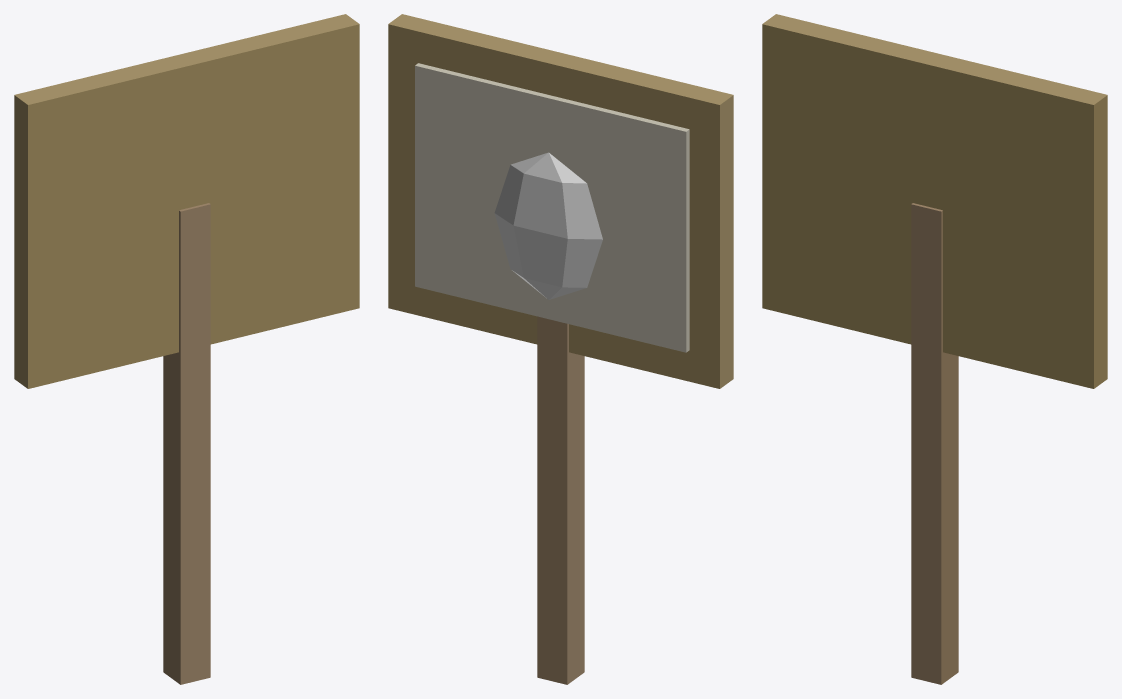
The model's file is furn_painting.glb.
The picture shows the model from 3 angles, left to right: view 1: azimuth 30°, elevation 25°; view 2: azimuth 150°, elevation 25°; view 3: azimuth 330°, elevation 25°; orthographic projection.
Visible parts, largest first — view 1: furn_painting2; view 2: furn_painting2; view 3: furn_painting2.
Part boxes in pixels (x1,y1,x2,y2): furn_painting2: (14, 14, 359, 684); furn_painting2: (388, 14, 733, 684); furn_painting2: (762, 14, 1107, 684).
Size of the model in its own units: 1.1 by 1.95 by 0.1668.
